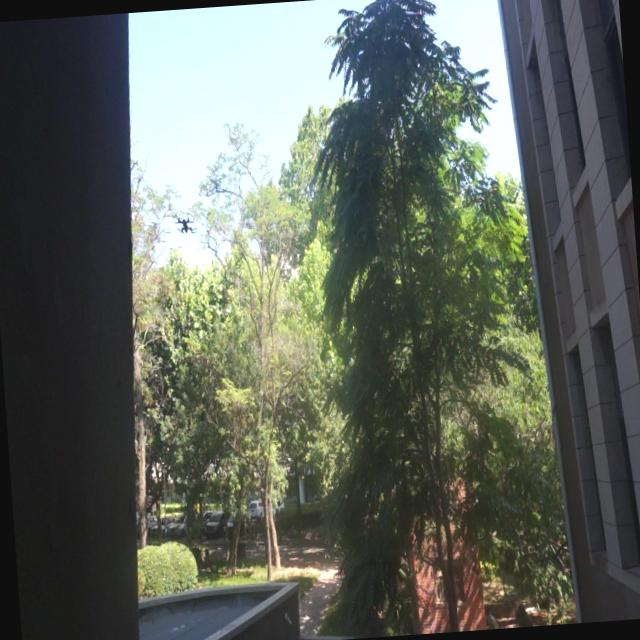drone: (172, 210, 198, 238)
